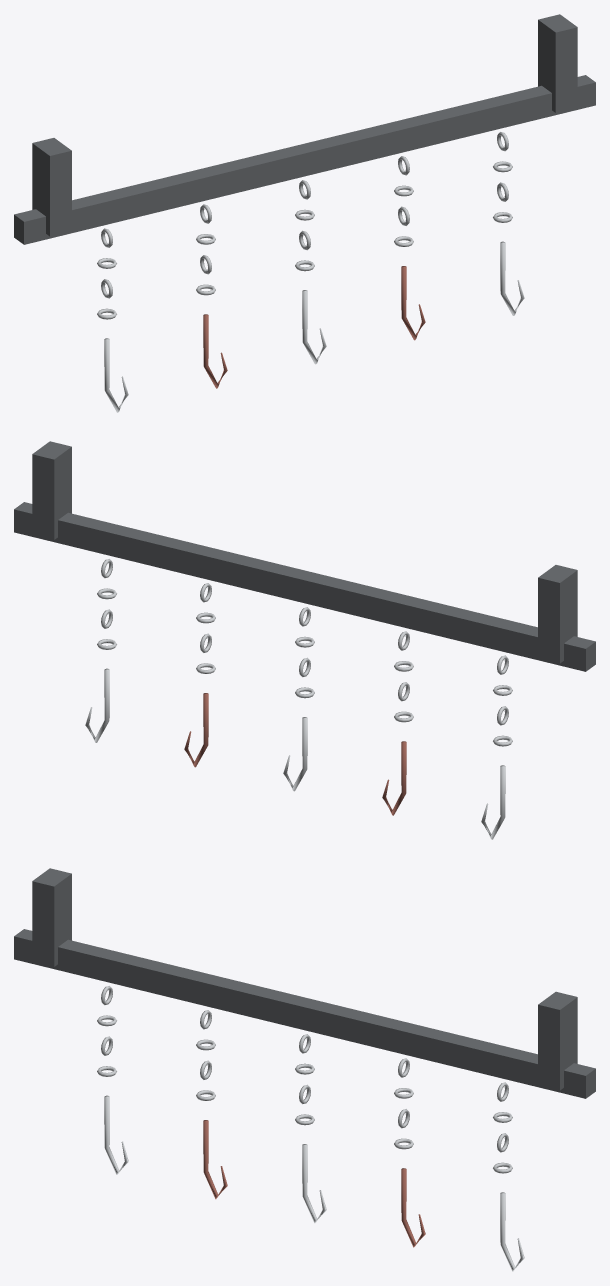
File: butcher_hook_rack.glb
3 renders of one model, top to bottom at view 1: azimuth 30°, elevation 25°; view 2: azimuth 150°, elevation 25°; view 3: azimuth 330°, elevation 25°, orthographic.
Parts seen in each view (by area): view 1: BeamBar, MountBracket_-1.1, MountBracket_1.1, MeatHook_0, MeatHook_3, MeatHook_4, MeatHook_2, MeatHook_1; view 2: BeamBar, MountBracket_-1.1, MountBracket_1.1, MeatHook_3, MeatHook_4, MeatHook_0, MeatHook_1, MeatHook_2; view 3: BeamBar, MountBracket_1.1, MountBracket_-1.1, MeatHook_0, MeatHook_2, MeatHook_1, MeatHook_3, MeatHook_4.
Part boxes in pixels (bbox=[...]): BeamBar: bbox=[14, 75, 595, 244]; MountBracket_-1.1: bbox=[32, 138, 71, 236]; MountBracket_1.1: bbox=[538, 14, 577, 112]; MeatHook_0: bbox=[104, 338, 128, 412]; MeatHook_3: bbox=[401, 266, 425, 340]; MeatHook_4: bbox=[500, 241, 524, 315]; MeatHook_2: bbox=[302, 290, 326, 364]; MeatHook_1: bbox=[203, 314, 227, 388]; BeamBar: bbox=[14, 502, 595, 671]; MountBracket_-1.1: bbox=[538, 565, 577, 663]; MountBracket_1.1: bbox=[32, 441, 71, 539]; MeatHook_3: bbox=[184, 693, 208, 767]; MeatHook_4: bbox=[85, 668, 109, 742]; MeatHook_0: bbox=[481, 765, 505, 839]; MeatHook_1: bbox=[382, 741, 406, 815]; MeatHook_2: bbox=[283, 717, 307, 791]; BeamBar: bbox=[14, 929, 595, 1098]; MountBracket_1.1: bbox=[538, 991, 577, 1090]; MountBracket_-1.1: bbox=[32, 868, 71, 966]; MeatHook_0: bbox=[104, 1095, 128, 1174]; MeatHook_2: bbox=[302, 1144, 326, 1223]; MeatHook_1: bbox=[203, 1120, 227, 1199]; MeatHook_3: bbox=[401, 1168, 425, 1247]; MeatHook_4: bbox=[500, 1192, 524, 1271].
Bounding box in the file's own units: 2.6 × 1.22 × 0.14.
